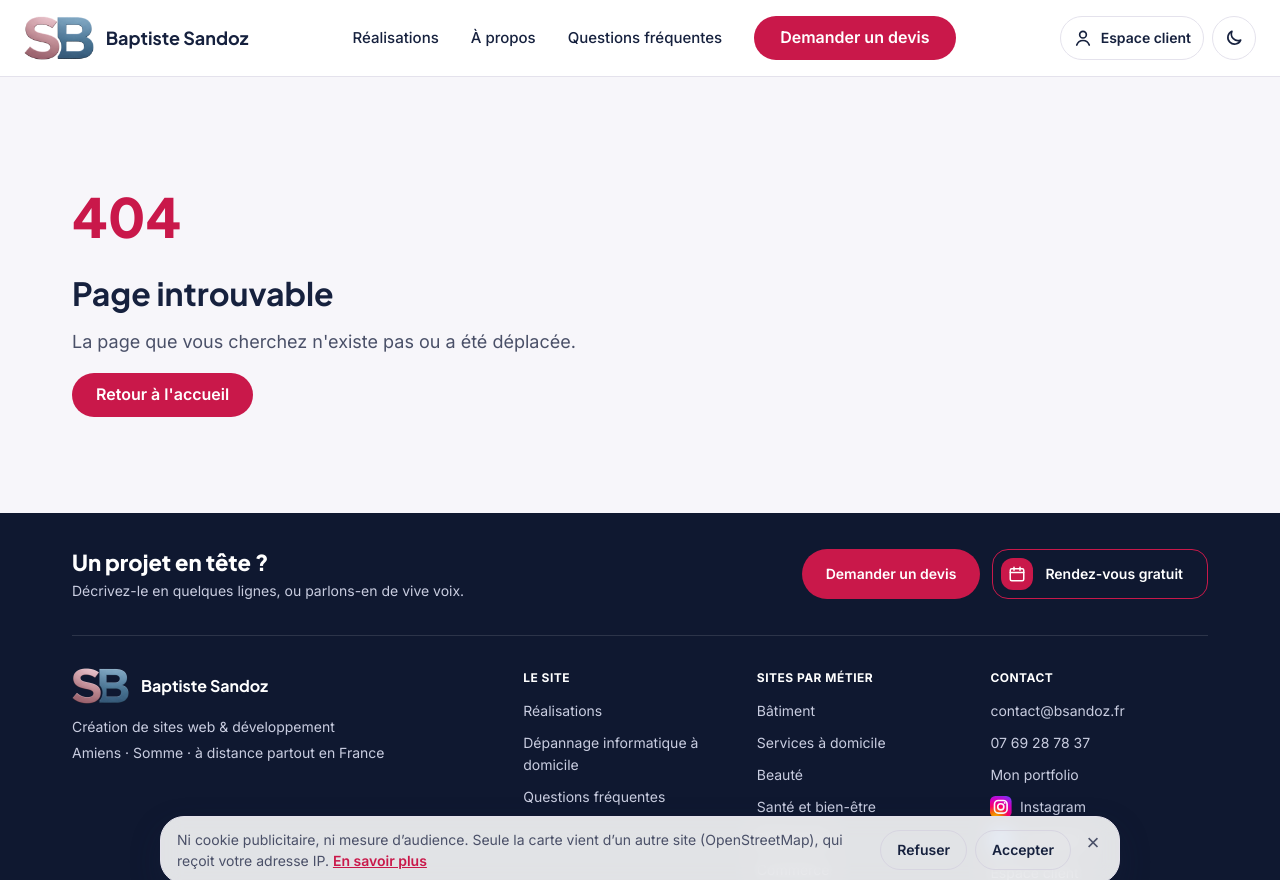
Routes du site › revient à l'accueil depuis la page 404
Click the link "Retour à l'accueil" at (163, 395), box [72, 373, 253, 417]
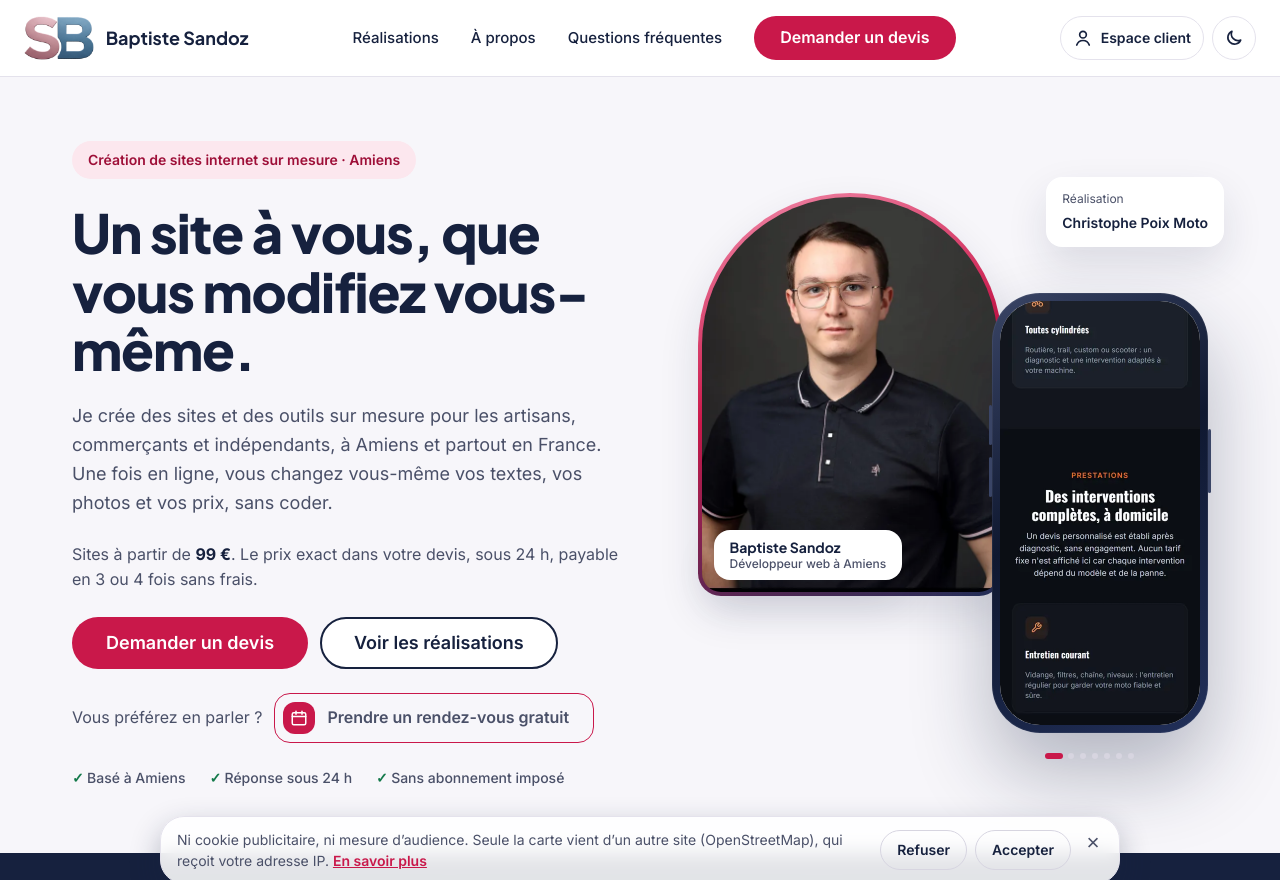
Expected: the heading "Un site à vous, que vous modifiez vous-même." is shown, [72, 203, 634, 378]
